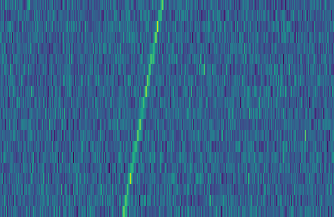signal: (118, 0, 167, 217)
